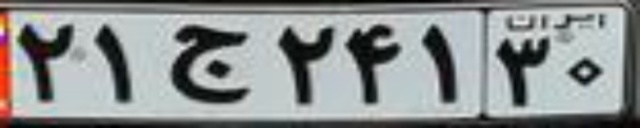0: (564, 56, 607, 86)
1: (415, 22, 458, 104), (92, 22, 135, 102)
2: (12, 20, 80, 102), (271, 24, 335, 104)
3: (492, 34, 554, 107)
4: (343, 24, 401, 105)
jim: (169, 23, 252, 103)
